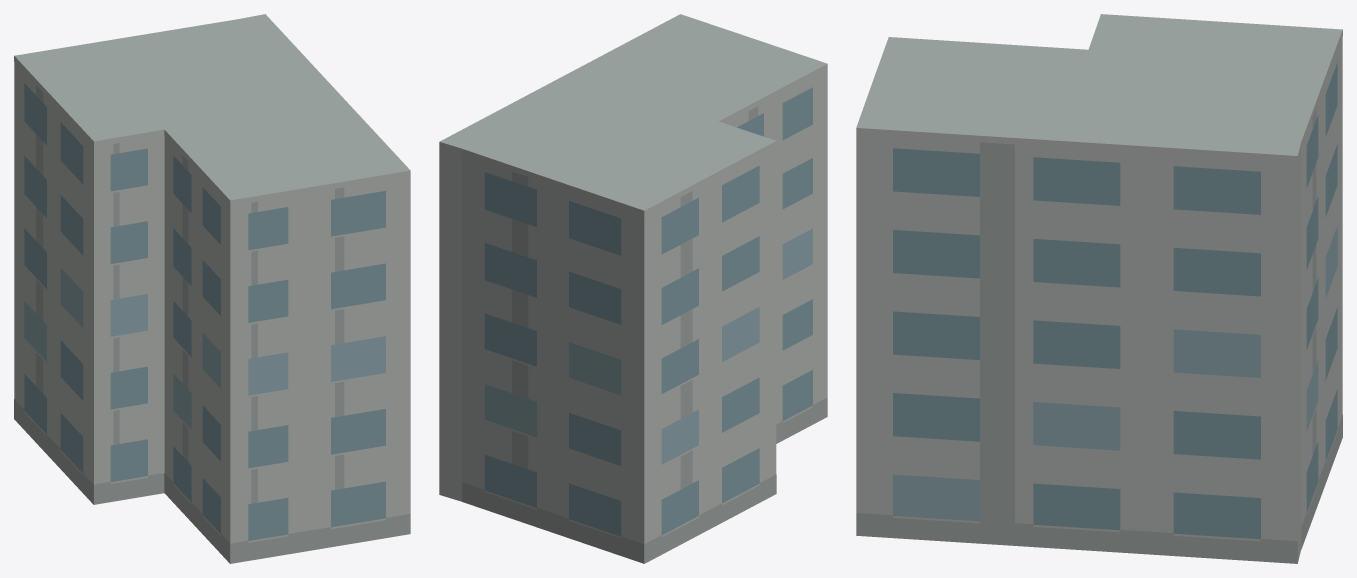
The model's file is residential-770d1543-9855-4d7c-b74f-0b3f886bc3ab.glb.
3 views of the same model, side by side, from view 1: azimuth 30°, elevation 25°; view 2: azimuth 150°, elevation 25°; view 3: azimuth 270°, elevation 25° (orthographic). The views are drawn at different scales.
Parts seen in each view (by area): view 1: residential-770d1543-9855-4d7c-b74f-0b3f886bc3ab.tmp; view 2: residential-770d1543-9855-4d7c-b74f-0b3f886bc3ab.tmp; view 3: residential-770d1543-9855-4d7c-b74f-0b3f886bc3ab.tmp.
Part boxes in pixels (x1,y1,x2,y2): residential-770d1543-9855-4d7c-b74f-0b3f886bc3ab.tmp: (14, 14, 410, 563); residential-770d1543-9855-4d7c-b74f-0b3f886bc3ab.tmp: (439, 14, 827, 563); residential-770d1543-9855-4d7c-b74f-0b3f886bc3ab.tmp: (856, 14, 1342, 563).
Size of the model in its own units: 11.39 by 15.25 by 16.5.
